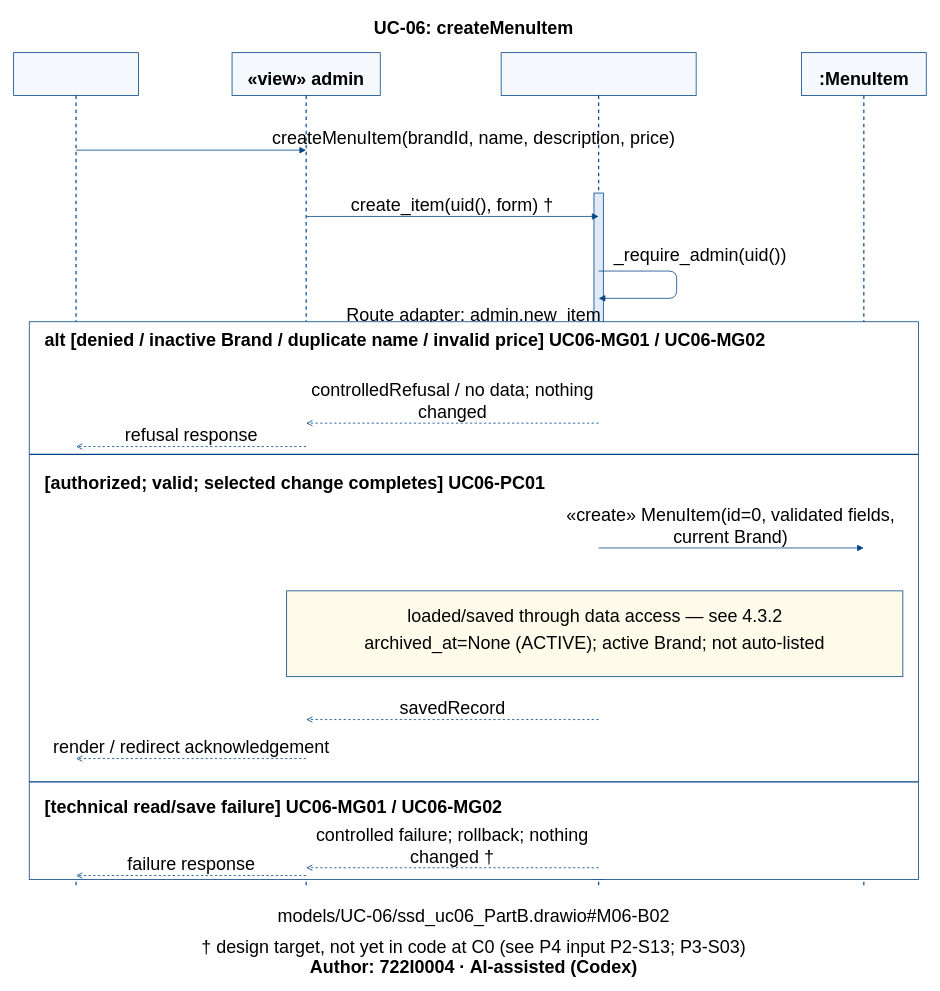
This 940x991 diagram has some shape labels left out. Here are the shapes that lost their labels. From the top down, the centre of each, then its label:
pixel 75 74: Admin
pixel 598 74: :MenuController
